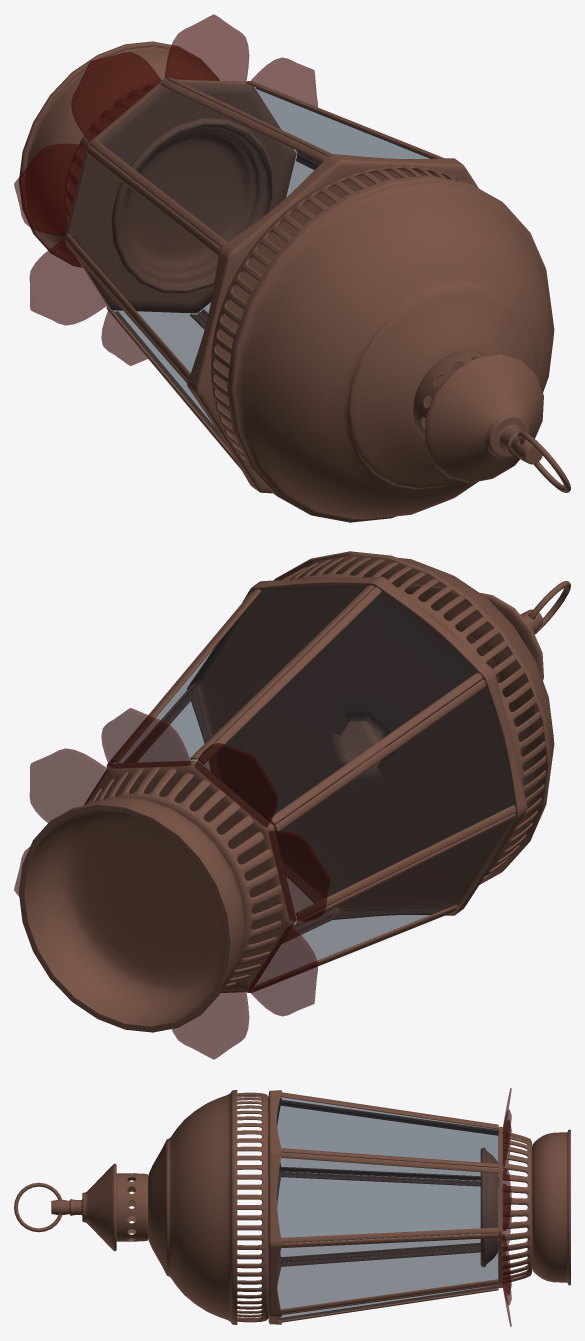
The model's file is 12299_Lantern_v1_l2.obj.
The picture shows the model from 3 angles, top to bottom: view 1: azimuth 30°, elevation 25°; view 2: azimuth 150°, elevation 25°; view 3: azimuth 270°, elevation 25°; orthographic projection. The views are drawn at different scales.
Parts seen in each view (by area): view 1: octagon_lantern_metal, octagon_lantern_glass, octagon_lantern_brown_glass; view 2: octagon_lantern_metal, octagon_lantern_glass, octagon_lantern_brown_glass; view 3: octagon_lantern_metal, octagon_lantern_glass, octagon_lantern_brown_glass.
Part boxes in pixels (x1,y1,x2,y2): octagon_lantern_metal: (19,41,570,522); octagon_lantern_glass: (70,82,432,448); octagon_lantern_brown_glass: (14,14,317,365); octagon_lantern_metal: (19,551,570,1032); octagon_lantern_glass: (156,584,516,960); octagon_lantern_brown_glass: (14,708,330,1059); octagon_lantern_metal: (14,1090,570,1324); octagon_lantern_glass: (276,1097,498,1320); octagon_lantern_brown_glass: (502,1088,511,1326).
Size of the model in its own units: 11.68 by 11.68 by 26.75.
